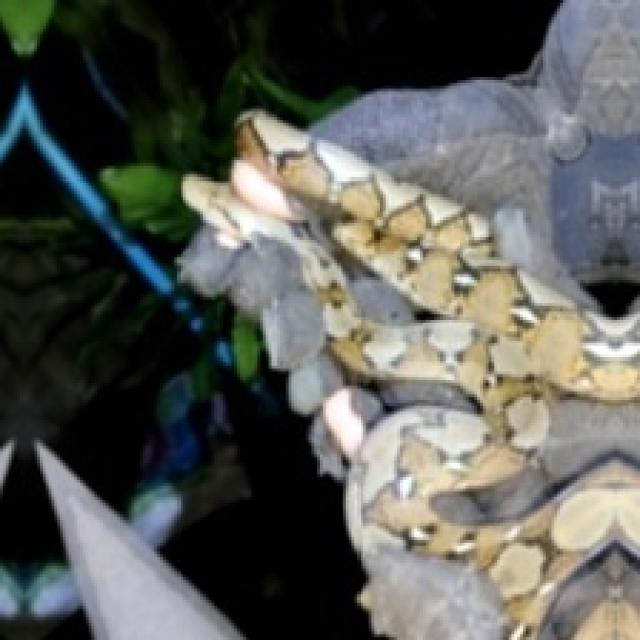reticulated python: (184, 111, 640, 640)
